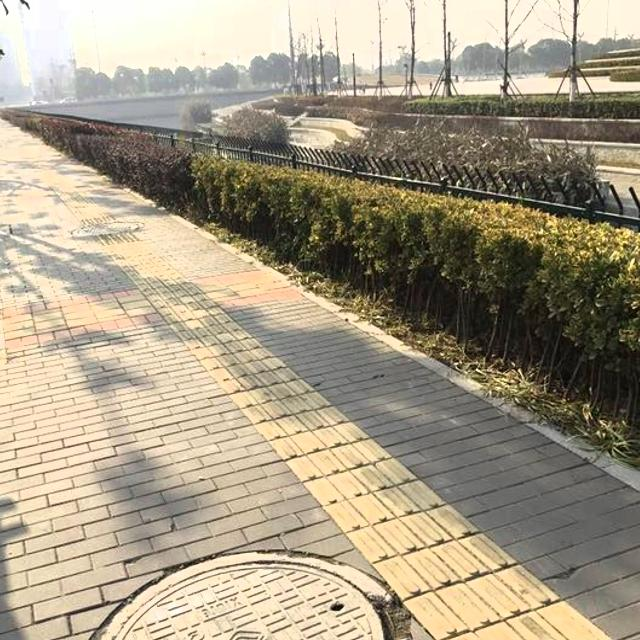circle: (73, 550, 416, 640)
